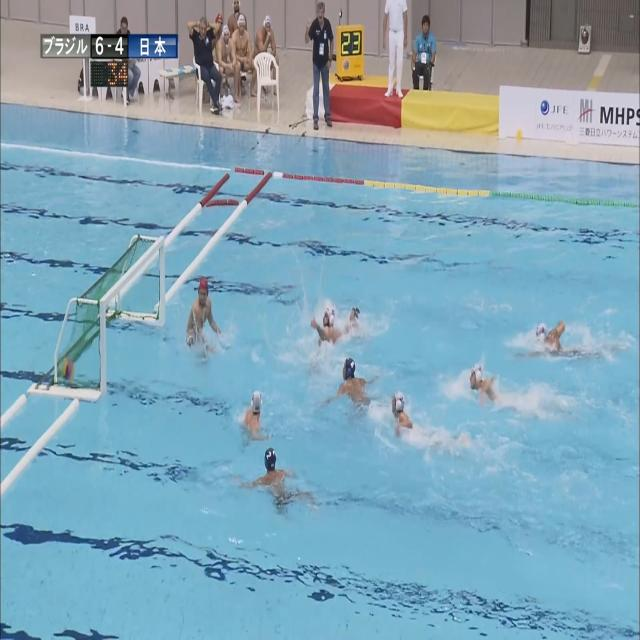ball: (61, 359, 74, 380)
